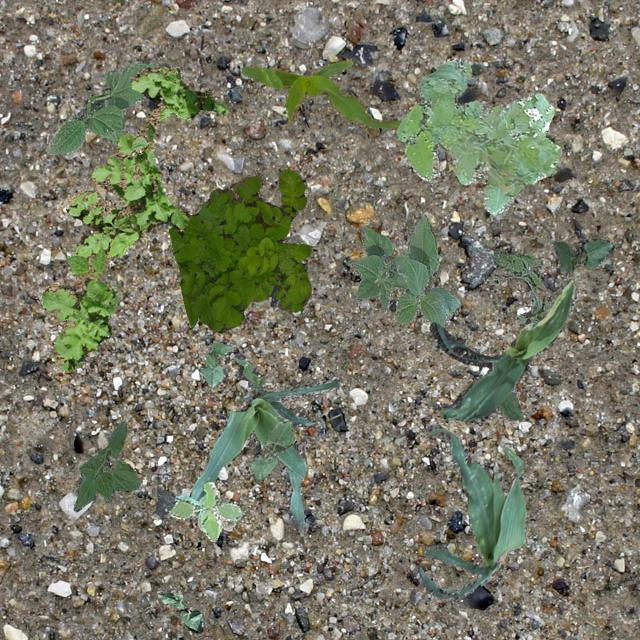crop: (188, 352, 336, 536), (428, 278, 574, 418), (412, 424, 526, 598), (348, 214, 458, 326), (240, 58, 400, 134), (46, 62, 158, 154), (72, 420, 140, 510), (250, 418, 294, 480), (458, 388, 524, 422), (550, 238, 612, 274), (156, 588, 202, 632), (198, 342, 235, 386)
weed: (40, 66, 226, 370), (394, 58, 560, 214), (168, 168, 310, 332), (492, 252, 554, 324), (168, 480, 240, 540)
